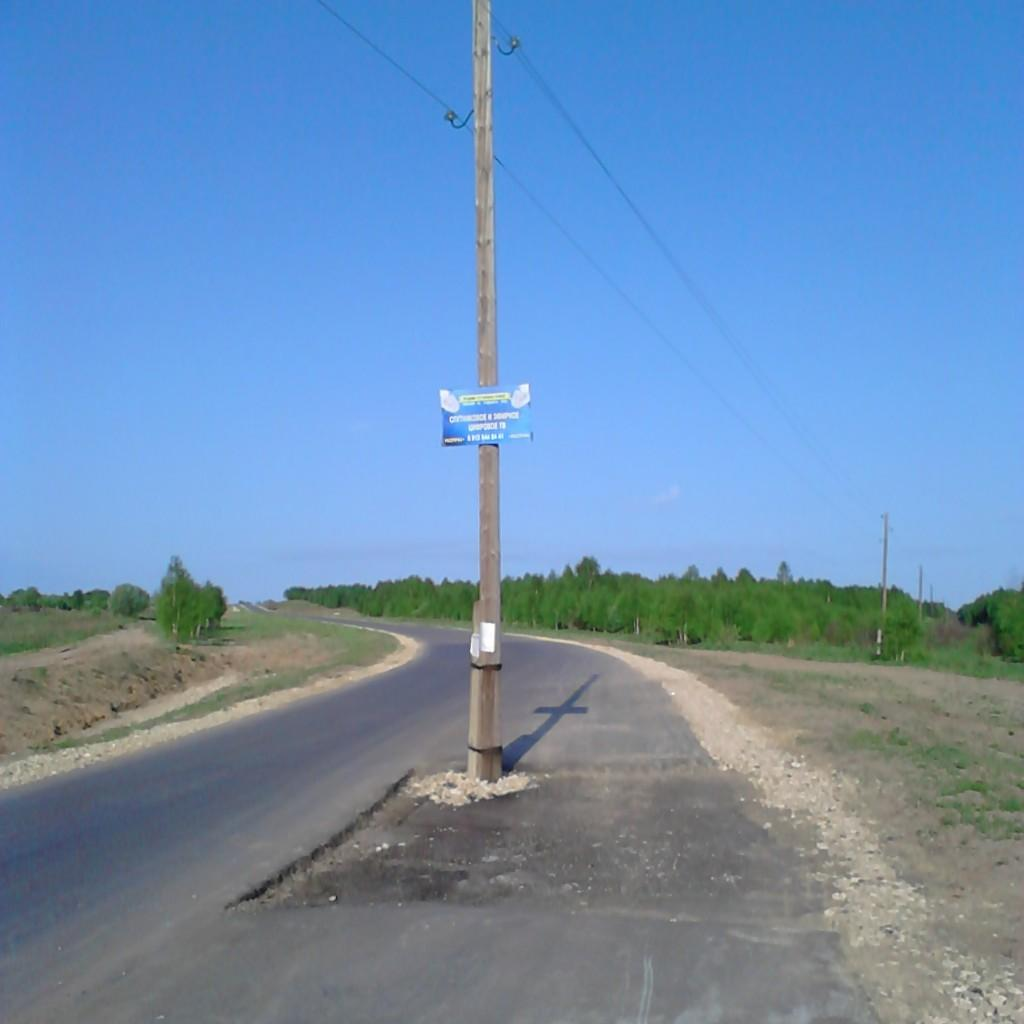Animal: (420, 0, 535, 845), (860, 494, 895, 687)
